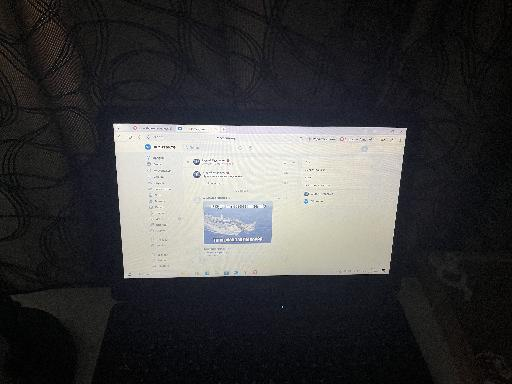vk: (114, 142, 391, 269)
